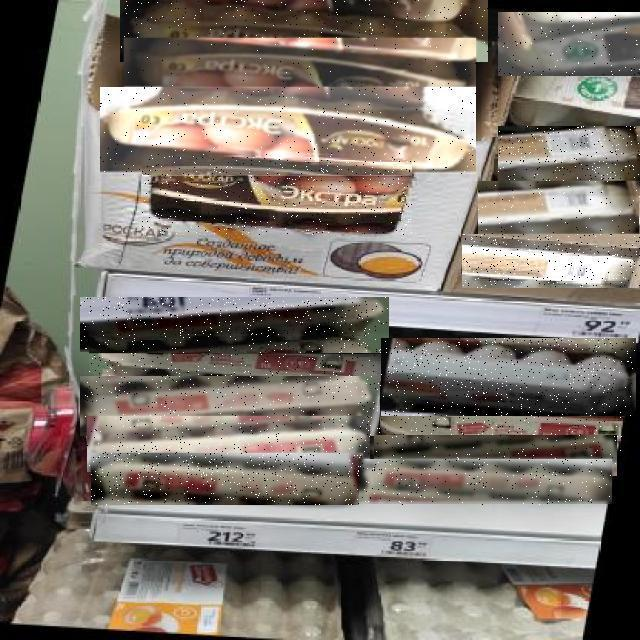Eggs: (101, 88, 477, 176), (124, 38, 476, 113), (120, 0, 488, 62), (142, 156, 412, 235), (381, 338, 636, 416), (80, 376, 380, 436), (89, 335, 393, 394), (80, 298, 389, 354), (87, 416, 370, 472), (378, 397, 624, 459), (91, 453, 363, 505), (359, 460, 612, 506), (478, 181, 639, 248), (374, 435, 617, 476), (498, 126, 640, 196), (462, 234, 640, 288), (498, 12, 640, 76)
